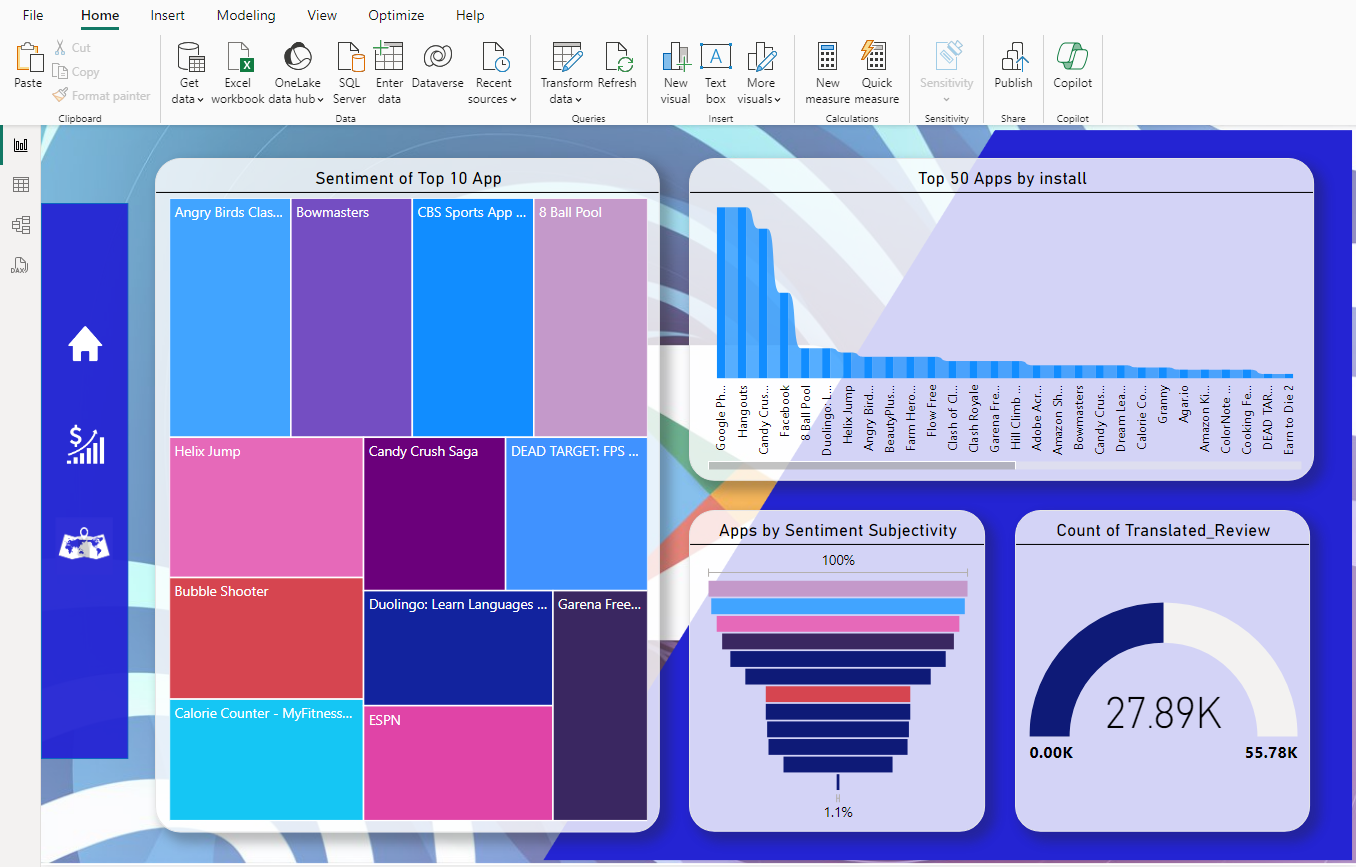

This screenshot's page, from the dashboard's own definition file:
{"tool":"powerbi","page":{"name":"Demographics","canvas":[1280,720],"ordinal":2},"visuals":[{"type":"shape","box":[0,75.5,85.2,540.9],"z":0},{"type":"image","box":[16.5,190.6,52.5,43.8],"z":1000},{"type":"image","box":[8.8,285,68.1,50.6],"z":2000},{"type":"image","box":[4.9,376.4,74.9,66.1],"z":3000},{"type":"actionButton","box":[0,182.9,85.6,67.1],"z":4000},{"type":"actionButton","box":[0,278.2,85.6,68.1],"z":5000},{"type":"actionButton","box":[0,374.5,85.6,68.1],"z":6000},{"type":"image","box":[385.2,0,894.8,719.8],"z":7000},{"type":"treemap","title":"Sentiment of Top 10 App","fields":{"Group":["googleplaystore_user_reviews.App"],"Values":["CountNonNull(googleplaystore_user_reviews.Sentiment)"]},"box":[110.9,32.1,491.2,655.6],"z":8000},{"type":"ribbonChart","title":"Top 50 Apps by install ","fields":{"Category":["googleplaystore_user_reviews.App"],"Y":["Sum(googleplaystore.Installs)"]},"box":[630.3,32.1,607.9,314.2],"z":9000},{"type":"gauge","fields":{"Y":["Count(googleplaystore_user_reviews.Translated_Review)"]},"box":[947.4,374.5,286.9,313.2],"z":10000},{"type":"funnel","title":"Apps by Sentiment Subjectivity","fields":{"Category":["googleplaystore_user_reviews.App"],"Y":["Count(googleplaystore_user_reviews.Sentiment_Subjectivity)"]},"box":[630.3,374.5,287.9,313.2],"z":10001}]}

Visuals, with their boxes on the page's 1280x720 design canvas (x1, y1, x2, y2). These are canvas units, not pixel positions in the 1356x867 screenshot, which may show the page scaled, cropped or inside an application window:
shape: x1=0, y1=76, x2=85, y2=616
image: x1=16, y1=191, x2=69, y2=234
image: x1=9, y1=285, x2=77, y2=336
image: x1=5, y1=376, x2=80, y2=442
actionButton: x1=0, y1=183, x2=86, y2=250
actionButton: x1=0, y1=278, x2=86, y2=346
actionButton: x1=0, y1=374, x2=86, y2=443
image: x1=385, y1=0, x2=1280, y2=720
"Sentiment of Top 10 App" treemap: x1=111, y1=32, x2=602, y2=688
"Top 50 Apps by install " ribbonChart: x1=630, y1=32, x2=1238, y2=346
gauge - Count(googleplaystore_user_reviews.Translated_Review): x1=947, y1=374, x2=1234, y2=688
"Apps by Sentiment Subjectivity" funnel: x1=630, y1=374, x2=918, y2=688
